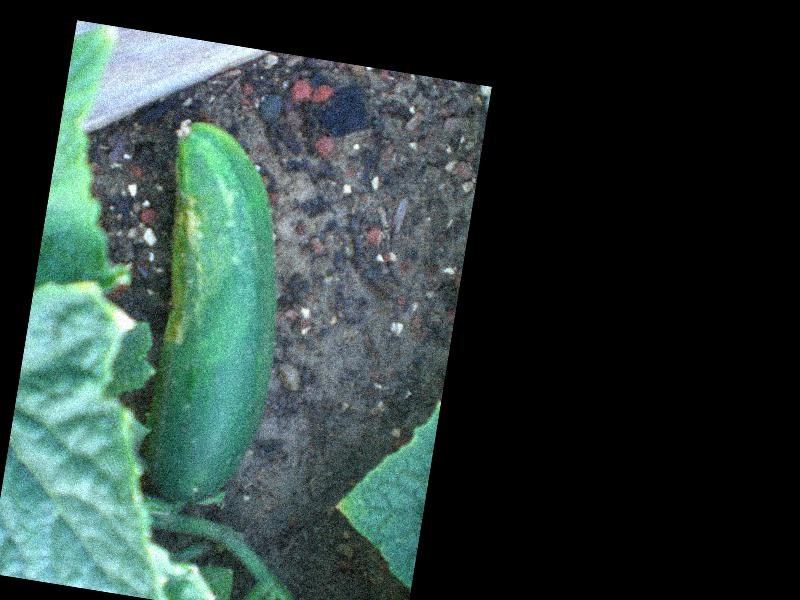Cucumber: (119, 117, 307, 511)
